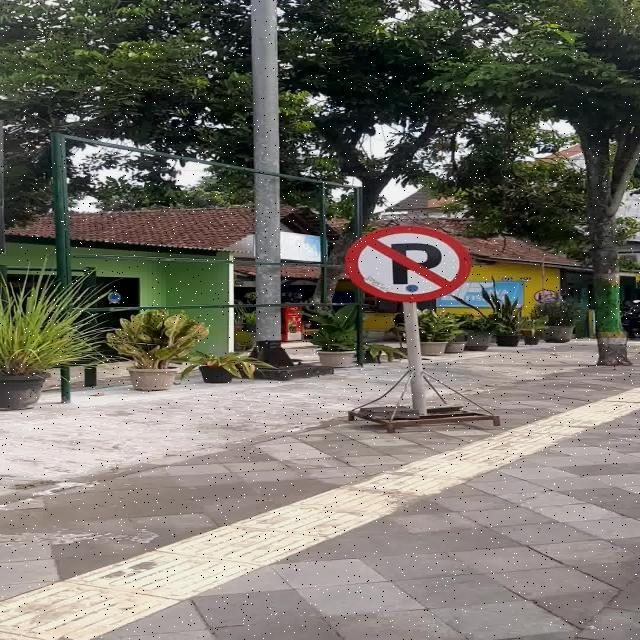Dilarang Parkir: (344, 225, 472, 302)
